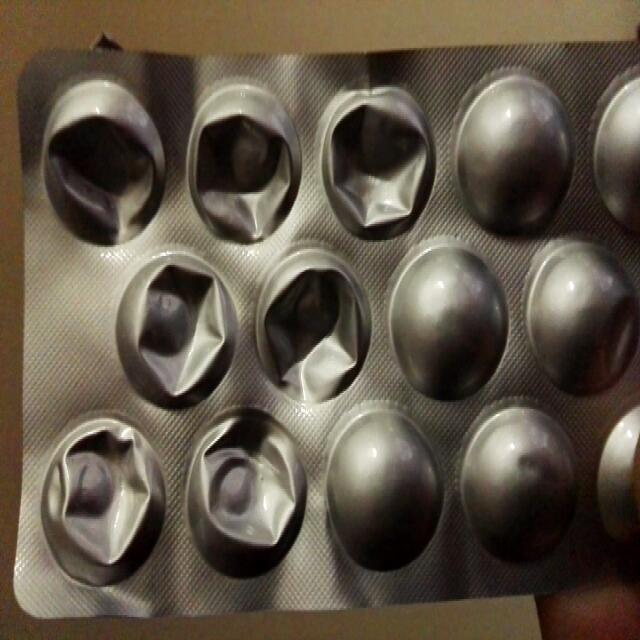Empty: (37, 409, 170, 595), (29, 65, 162, 244), (181, 73, 303, 251), (314, 69, 438, 242), (186, 407, 307, 578), (115, 245, 233, 412), (247, 251, 375, 404)
Pill: (319, 402, 445, 586), (452, 70, 576, 236), (387, 238, 512, 402), (458, 407, 579, 567), (524, 237, 640, 391)
